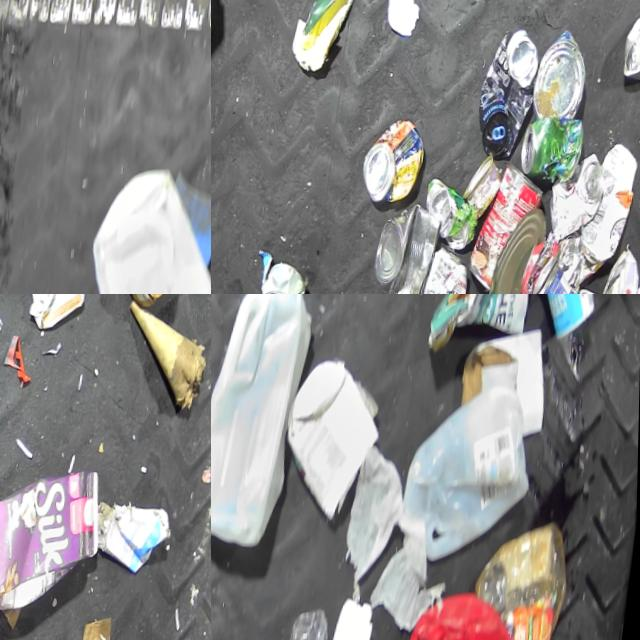can: (467, 163, 548, 294), (474, 28, 545, 164), (369, 200, 446, 294), (359, 117, 429, 209), (545, 153, 608, 251), (531, 30, 593, 126), (485, 208, 550, 294), (517, 116, 585, 190), (421, 178, 482, 256), (408, 246, 473, 294), (461, 156, 506, 224), (510, 261, 601, 294), (596, 250, 640, 294), (257, 262, 311, 294), (620, 4, 640, 87)
milk_jug: (396, 380, 544, 579), (211, 294, 319, 558), (70, 162, 211, 294)
non_white_jug: (0, 462, 108, 630), (15, 294, 97, 335)
plastic_bottle: (270, 603, 335, 640)
